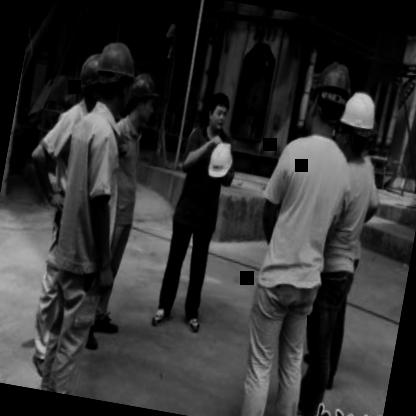helmet: (302, 55, 357, 143), (90, 34, 144, 118), (332, 82, 379, 164), (122, 64, 164, 132), (70, 50, 112, 114)
